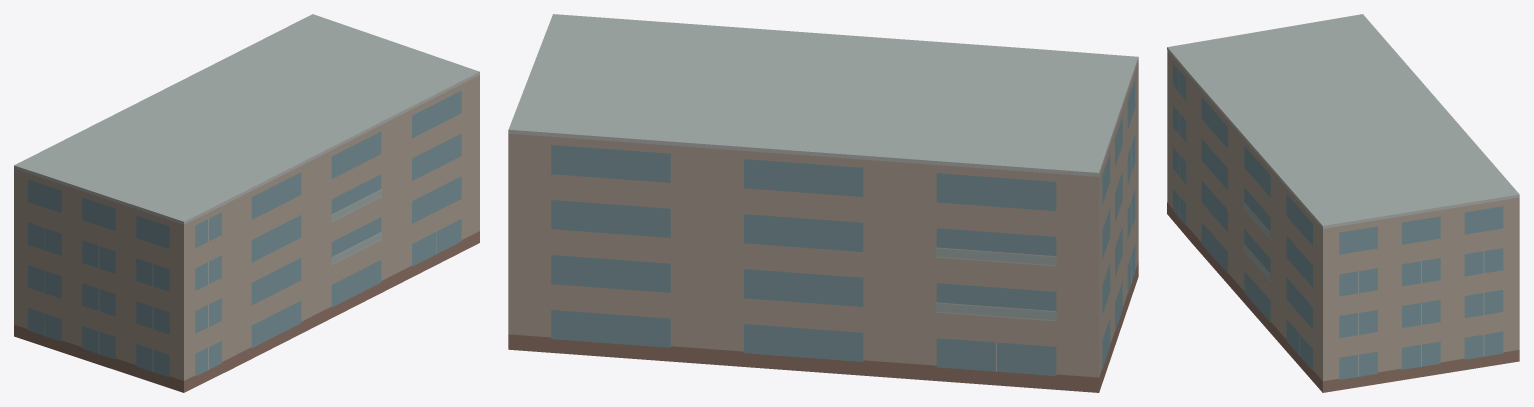
File: survey-upis-32858598.glb
3 renders of one model, left to right at view 1: azimuth 30°, elevation 25°; view 2: azimuth 150°, elevation 25°; view 3: azimuth 270°, elevation 25°, orthographic. The views are drawn at different scales.
Parts seen in each view (by area): view 1: survey-upis-32858598.tmp; view 2: survey-upis-32858598.tmp; view 3: survey-upis-32858598.tmp.
Part boxes in pixels (<box>): survey-upis-32858598.tmp: <box>14,14,479,392</box>; survey-upis-32858598.tmp: <box>508,14,1138,392</box>; survey-upis-32858598.tmp: <box>1167,14,1519,392</box>.
Size of the model in its own units: 36.8 by 13.51 by 25.87.
